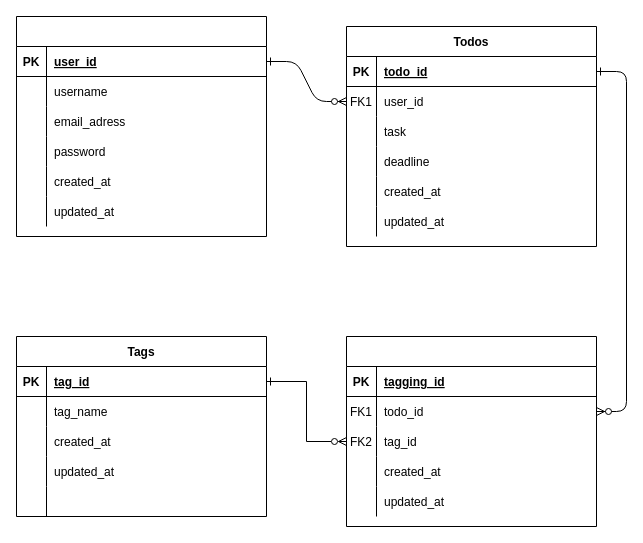
This 643x543 diagram has some shape labels left out. The shapes that lost their labels are listed below. From the top down, each one's box as (x1, y1, x2, y2) in pixels, then its label:
(16, 16, 266, 236): Users
(346, 336, 596, 526): TodoTags
